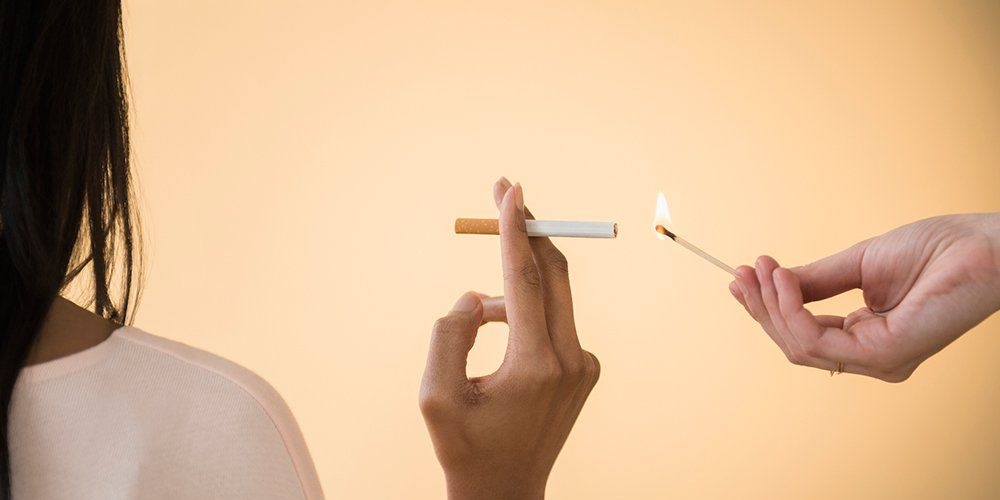sigaretta: (444, 211, 634, 247)
